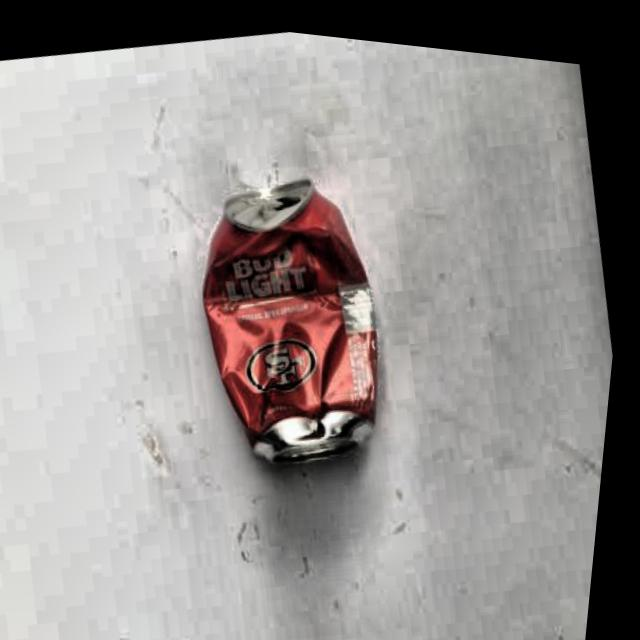Cans: (169, 149, 421, 483)
